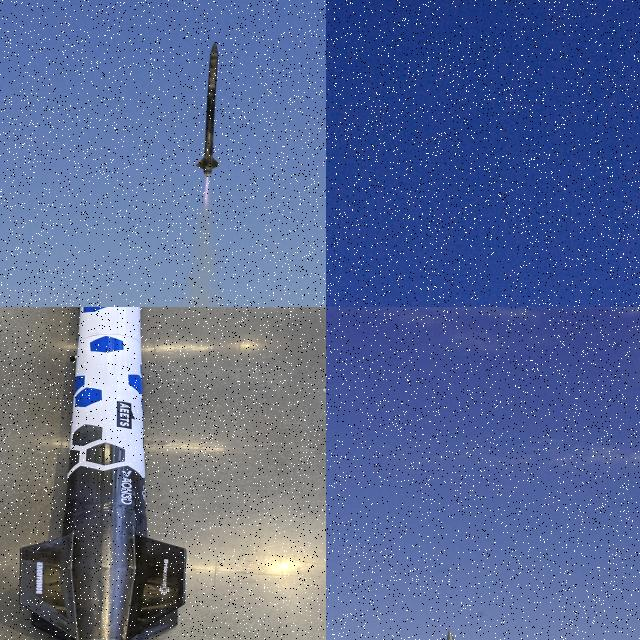Rocket: (18, 307, 187, 640), (196, 41, 220, 178)
